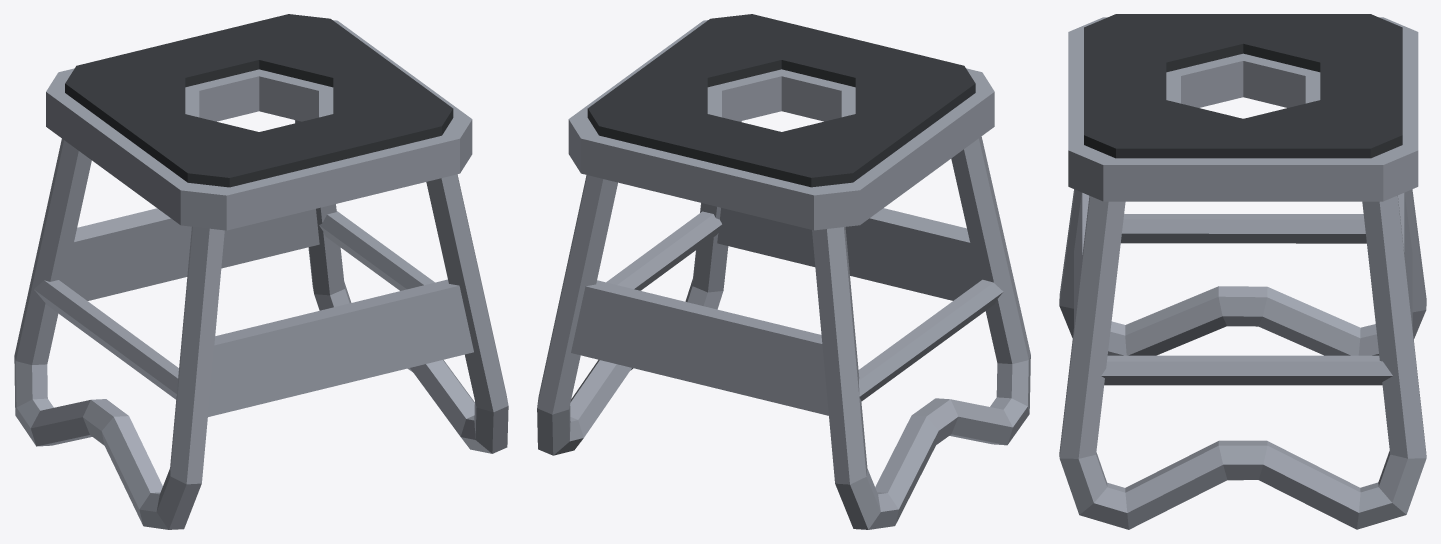
The model's file is SM_Prop_BikeStand_01.fbx.
3 renders of one model, left to right at view 1: azimuth 30°, elevation 25°; view 2: azimuth 150°, elevation 25°; view 3: azimuth 270°, elevation 25°, orthographic. The views are drawn at different scales.
Parts seen in each view (by area): view 1: SM_Prop_BikeStand_01; view 2: SM_Prop_BikeStand_01; view 3: SM_Prop_BikeStand_01.
Part boxes in pixels (bbox=[...]): SM_Prop_BikeStand_01: bbox=[14, 14, 508, 529]; SM_Prop_BikeStand_01: bbox=[537, 14, 1030, 529]; SM_Prop_BikeStand_01: bbox=[1059, 14, 1426, 529].
Size of the model in its own units: 74.01 by 70.93 by 64.51.
